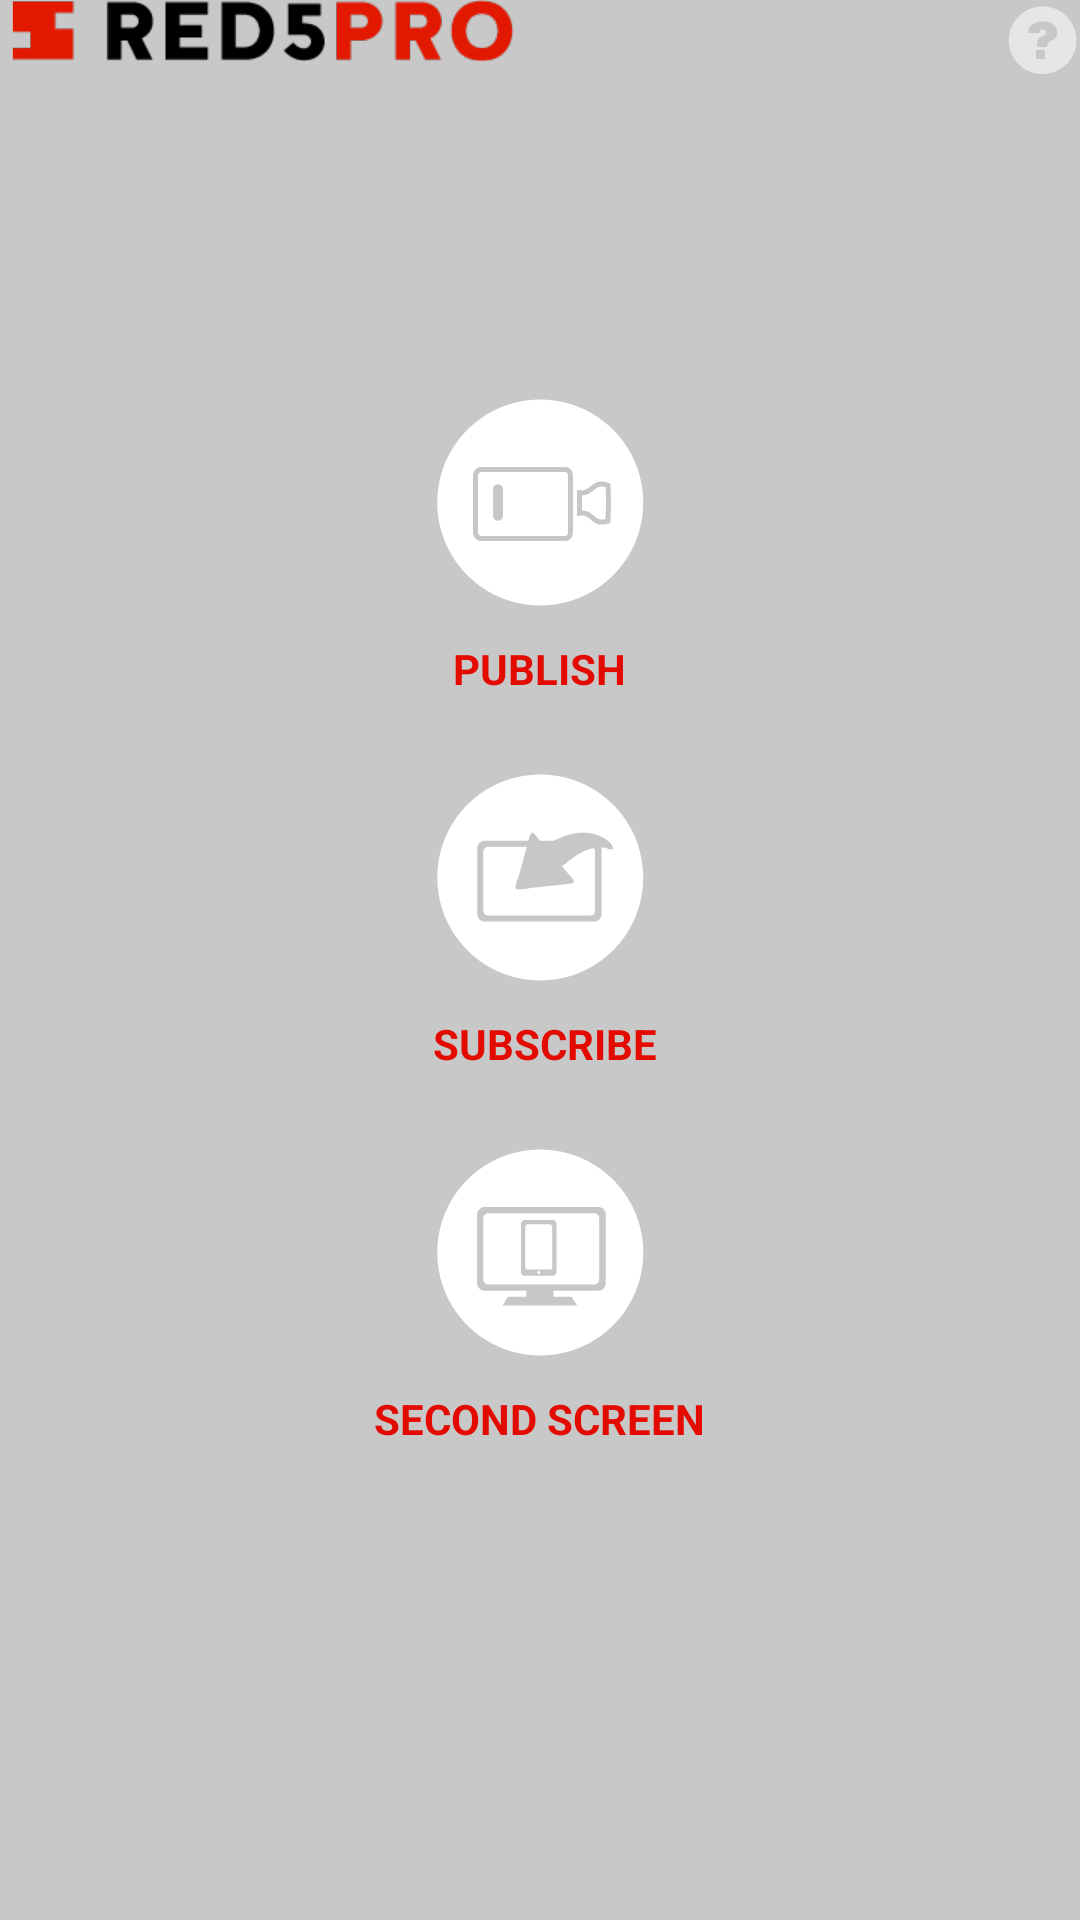

Locate icon controls on the screen. Image size 1080 x 1920, boxes as (x1, y1, x2, y2).
help: (1009, 7, 1076, 74)
